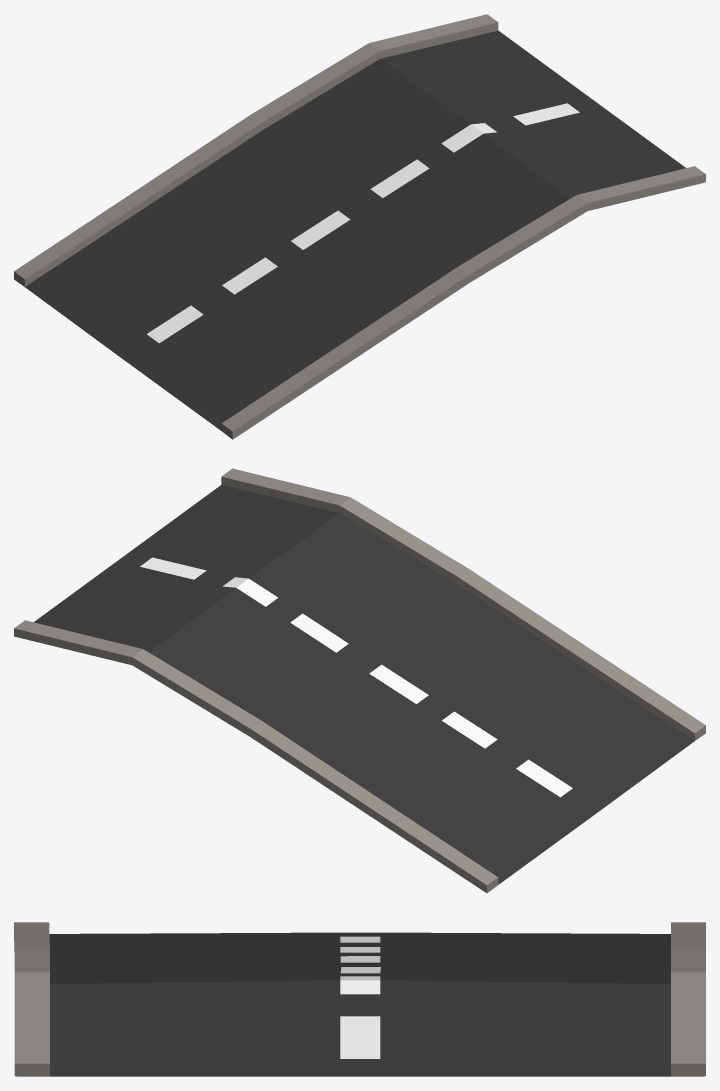
The model's file is Road Tile_6.fbx.
The picture shows the model from 3 angles, top to bottom: view 1: azimuth 30°, elevation 25°; view 2: azimuth 150°, elevation 25°; view 3: azimuth 270°, elevation 25°; orthographic projection. The views are drawn at different scales.
Parts seen in each view (by area): view 1: Road Tile_6; view 2: Road Tile_6; view 3: Road Tile_6.
Part boxes in pixels (x1=…): Road Tile_6: x1=14, y1=14, x2=705, y2=439; Road Tile_6: x1=14, y1=468, x2=705, y2=893; Road Tile_6: x1=14, y1=922, x2=705, y2=1076.
Size of the model in its own units: 1002 by 302 by 801.
